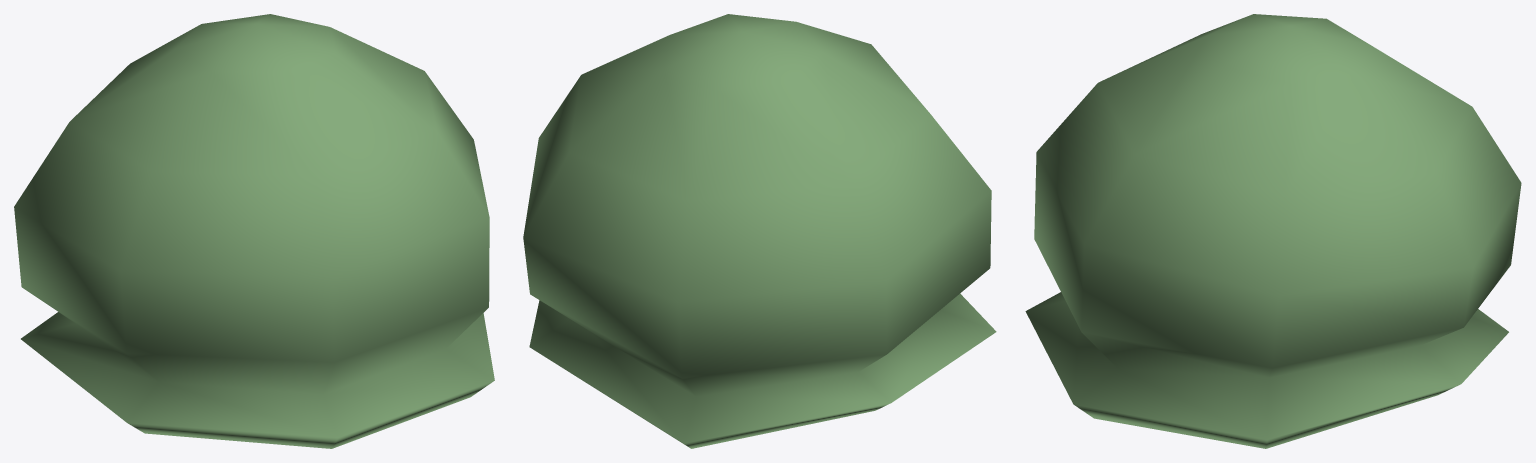
File: Sombrero_6.fbx
The picture shows the model from 3 angles, left to right: view 1: azimuth 30°, elevation 25°; view 2: azimuth 150°, elevation 25°; view 3: azimuth 270°, elevation 25°; orthographic projection. The views are drawn at different scales.
Visible parts, largest first — view 1: Sombrero_6; view 2: Sombrero_6; view 3: Sombrero_6.
Boxes of the visible parts, box(x1,y1,x2,y2) form: Sombrero_6: box(14, 14, 494, 448); Sombrero_6: box(523, 14, 996, 448); Sombrero_6: box(1025, 14, 1521, 448).
Size of the model in its own units: 0.9081 by 0.7347 by 0.9503.
